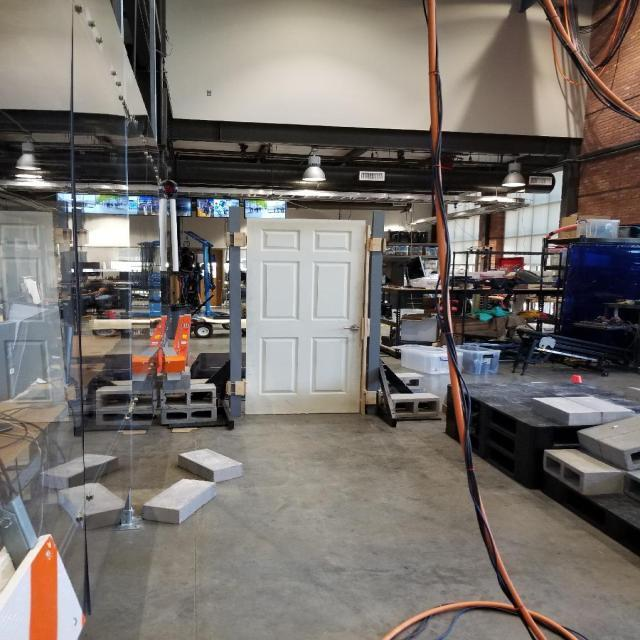door: (242, 214, 366, 416), (342, 322, 359, 335)
